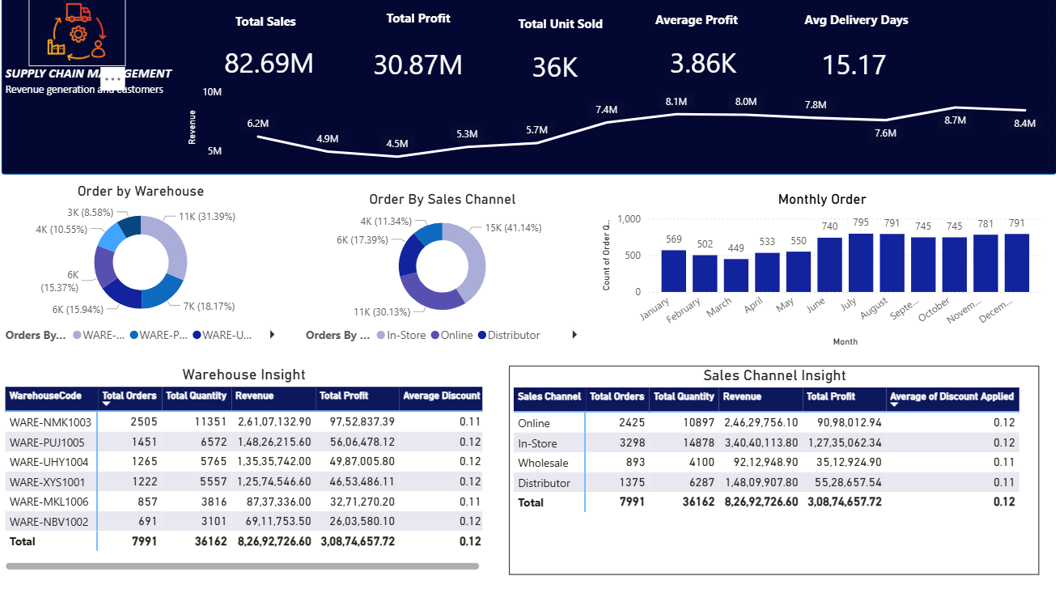

This screenshot's page, from the dashboard's own definition file:
{"tool":"powerbi","page":{"name":"Page 1","canvas":[1280,720],"ordinal":0},"visuals":[{"type":"image","box":[28.8,28.8,124.9,94.7],"z":0},{"type":"shape","box":[4.1,0,1276.2,214.1],"z":1000},{"type":"textbox","box":[4.1,76.8,230.5,46.7],"z":2000},{"type":"image","box":[37,0,116.6,83.7],"z":3000},{"type":"card","fields":{"Values":["Sum(main.Revenue)"]},"box":[248.4,55.2,159.2,46.7],"z":4000},{"type":"card","fields":{"Values":["Sum(main.Profit)"]},"box":[425.4,60.4,164.7,41.2],"z":5000},{"type":"card","fields":{"Values":["Sum(main.Order Quantity)"]},"box":[607.9,61.7,130.4,45.3],"z":6000},{"type":"card","fields":{"Values":["Avg(main.Profit)"]},"box":[772.6,57.6,159.2,41.2],"z":7000},{"type":"card","fields":{"Values":["Avg(main.Ship Date)"]},"box":[955.1,60.4,159.2,41.2],"z":8000},{"type":"textbox","box":[248.4,13.7,149.6,34.3],"z":9000},{"type":"textbox","box":[425.4,9.6,164.7,45.3],"z":10000},{"type":"lineChart","fields":{"Y":["Sum(main.Revenue)"],"Category":["main.OrderDate.Variation.Date Hierarchy.Month"]},"box":[223.7,100.2,1056.6,105.7],"z":11000},{"type":"columnChart","title":"Monthly Order ","fields":{"Y":["CountNonNull(main.Order Quantity)"],"Category":["main.OrderDate.Variation.Date Hierarchy.Month"]},"box":[724.5,233.3,542,193.5],"z":12000},{"type":"donutChart","title":"Order By Sales Channel","fields":{"Y":["Sum(main.Order Quantity)"],"Category":["main.Sales Channel"]},"box":[366.4,233.3,340.3,193.5],"z":13000},{"type":"donutChart","title":" Order by Warehouse","fields":{"Y":["Sum(main.Order Quantity)"],"Category":["main.WarehouseCode"]},"box":[4.1,223.7,337.6,203.1],"z":14000},{"type":"pivotTable","title":"Warehouse Insight","fields":{"Rows":["main.WarehouseCode"],"Values":["Count(main.OrderNumber)","Sum(main.Order Quantity)","Sum(main.Revenue)","Sum(main.Profit)","Avg(main.Discount Applied)"]},"box":[3.7,445.1,587,251.9],"z":15000},{"type":"textbox","box":[607.9,16.5,144.1,41.2],"z":17000},{"type":"textbox","box":[772.6,11,142.7,39.8],"z":18000},{"type":"textbox","box":[955.1,11,164.7,39.8],"z":19000},{"type":"pivotTable","title":"Sales Channel Insight","fields":{"Rows":["main.Sales Channel"],"Values":["Count(main.OrderNumber)","Sum(main.Order Quantity)","Sum(main.Revenue)","Sum(main.Profit)","Avg(main.Discount Applied)"]},"box":[617.5,444.6,640.8,252.5],"z":20000}]}

Visuals, with their boxes in screenshot pixels (x1, y1, x2, y2), scaled from the page's 1280x720 canvas onto the 1056x591 screenshot:
image: bbox(24, 24, 127, 101)
shape: bbox(3, 0, 1055, 176)
textbox: bbox(3, 63, 194, 101)
image: bbox(31, 0, 127, 69)
card - Sum(main.Revenue): bbox(205, 45, 336, 84)
card - Sum(main.Profit): bbox(351, 50, 487, 83)
card - Sum(main.Order Quantity): bbox(502, 51, 609, 88)
card - Avg(main.Profit): bbox(637, 47, 769, 81)
card - Avg(main.Ship Date): bbox(788, 50, 919, 83)
textbox: bbox(205, 11, 328, 39)
textbox: bbox(351, 8, 487, 45)
lineChart - Sum(main.Revenue) x main.OrderDate.Variation.Date Hierarchy.Month: bbox(185, 82, 1055, 169)
"Monthly Order " columnChart: bbox(598, 192, 1045, 350)
"Order By Sales Channel" donutChart: bbox(302, 192, 583, 350)
" Order by Warehouse" donutChart: bbox(3, 184, 282, 350)
"Warehouse Insight" pivotTable: bbox(3, 365, 487, 572)
textbox: bbox(502, 14, 620, 47)
textbox: bbox(637, 9, 755, 42)
textbox: bbox(788, 9, 924, 42)
"Sales Channel Insight" pivotTable: bbox(509, 365, 1038, 572)
